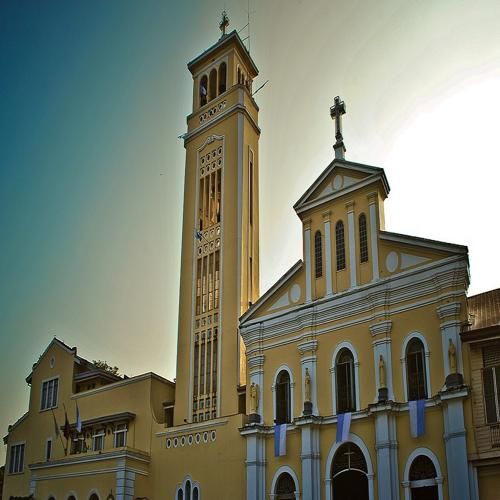Manaoag Church: (153, 6, 474, 500)
